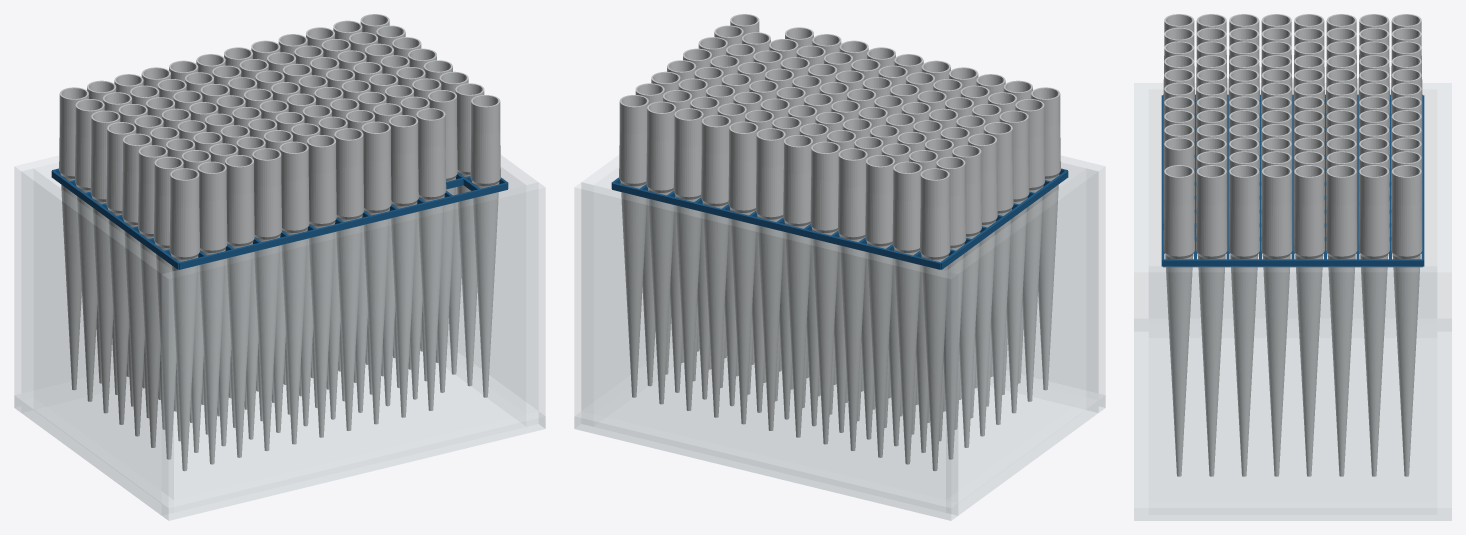
Rendered from tip_box_01.glb.
The picture shows the model from 3 angles, left to right: view 1: azimuth 30°, elevation 25°; view 2: azimuth 150°, elevation 25°; view 3: azimuth 270°, elevation 25°; orthographic projection. The views are drawn at different scales.
Visible parts, largest first — view 1: World_SmallSkills_tip_box_01_SideY0, World_SmallSkills_tip_box_01_SideX0, World_SmallSkills_tip_box_01_Base, World_SmallSkills_tip_box_01_SideY1, World_SmallSkills_tip_box_01_SideX1, World_SmallSkills_tip_box_01_S5Tip_0_0_HollowTip, World_SmallSkills_tip_box_01_S5Tip_11_0_HollowTip, World_SmallSkills_tip_box_01_S5Tip_1_0_HollowTip, World_SmallSkills_tip_box_01_S5Tip_4_0_HollowTip, World_SmallSkills_tip_box_01_S5Tip_7_0_HollowTip, World_SmallSkills_tip_box_01_S5Tip_6_0_HollowTip, World_SmallSkills_tip_box_01_S5Tip_2_0_HollowTip (+40 smaller); view 2: World_SmallSkills_tip_box_01_SideY1, World_SmallSkills_tip_box_01_SideX0, World_SmallSkills_tip_box_01_Base, World_SmallSkills_tip_box_01_SideY0, World_SmallSkills_tip_box_01_SideX1, World_SmallSkills_tip_box_01_S5Tip_0_7_HollowTip, World_SmallSkills_tip_box_01_S5Tip_1_7_HollowTip, World_SmallSkills_tip_box_01_S5Tip_4_7_HollowTip, World_SmallSkills_tip_box_01_S5Tip_7_7_HollowTip, World_SmallSkills_tip_box_01_S5Tip_10_7_HollowTip, World_SmallSkills_tip_box_01_S5Tip_6_7_HollowTip, World_SmallSkills_tip_box_01_S5Tip_2_7_HollowTip (+41 smaller); view 3: World_SmallSkills_tip_box_01_SideX1, World_SmallSkills_tip_box_01_Base, World_SmallSkills_tip_box_01_SideX0, World_SmallSkills_tip_box_01_SideY1, World_SmallSkills_tip_box_01_SideY0, World_SmallSkills_tip_box_01_S5Tip_11_1_HollowTip, World_SmallSkills_tip_box_01_S5Tip_11_6_HollowTip, World_SmallSkills_tip_box_01_S5Tip_11_3_HollowTip, World_SmallSkills_tip_box_01_S5Tip_11_4_HollowTip, World_SmallSkills_tip_box_01_S5Tip_11_0_HollowTip, World_SmallSkills_tip_box_01_S5Tip_11_7_HollowTip, World_SmallSkills_tip_box_01_S5Tip_11_2_HollowTip (+91 smaller).
Boxes of the visible parts, bbox=[...] form: World_SmallSkills_tip_box_01_SideY0: bbox=[162, 182, 545, 520]; World_SmallSkills_tip_box_01_SideX0: bbox=[21, 169, 173, 514]; World_SmallSkills_tip_box_01_Base: bbox=[14, 351, 545, 520]; World_SmallSkills_tip_box_01_SideY1: bbox=[14, 156, 113, 411]; World_SmallSkills_tip_box_01_SideX1: bbox=[448, 155, 538, 409]; World_SmallSkills_tip_box_01_S5Tip_0_0_HollowTip: bbox=[169, 168, 199, 471]; World_SmallSkills_tip_box_01_S5Tip_11_0_HollowTip: bbox=[470, 95, 500, 397]; World_SmallSkills_tip_box_01_S5Tip_1_0_HollowTip: bbox=[197, 161, 227, 464]; World_SmallSkills_tip_box_01_S5Tip_4_0_HollowTip: bbox=[279, 141, 309, 444]; World_SmallSkills_tip_box_01_S5Tip_7_0_HollowTip: bbox=[361, 121, 391, 424]; World_SmallSkills_tip_box_01_S5Tip_6_0_HollowTip: bbox=[334, 128, 364, 430]; World_SmallSkills_tip_box_01_S5Tip_2_0_HollowTip: bbox=[225, 155, 254, 457]; World_SmallSkills_tip_box_01_SideY1: bbox=[574, 182, 957, 520]; World_SmallSkills_tip_box_01_SideX0: bbox=[946, 169, 1098, 514]; World_SmallSkills_tip_box_01_Base: bbox=[574, 351, 1105, 520]; World_SmallSkills_tip_box_01_SideY0: bbox=[1006, 156, 1105, 411]; World_SmallSkills_tip_box_01_SideX1: bbox=[581, 155, 671, 409]; World_SmallSkills_tip_box_01_S5Tip_0_7_HollowTip: bbox=[920, 168, 950, 471]; World_SmallSkills_tip_box_01_S5Tip_1_7_HollowTip: bbox=[892, 161, 922, 464]; World_SmallSkills_tip_box_01_S5Tip_4_7_HollowTip: bbox=[810, 141, 840, 444]; World_SmallSkills_tip_box_01_S5Tip_7_7_HollowTip: bbox=[728, 121, 758, 424]; World_SmallSkills_tip_box_01_S5Tip_10_7_HollowTip: bbox=[646, 101, 676, 404]; World_SmallSkills_tip_box_01_S5Tip_6_7_HollowTip: bbox=[755, 128, 785, 430]; World_SmallSkills_tip_box_01_S5Tip_2_7_HollowTip: bbox=[865, 155, 894, 457]; World_SmallSkills_tip_box_01_SideX1: bbox=[1149, 266, 1436, 520]; World_SmallSkills_tip_box_01_Base: bbox=[1134, 319, 1451, 520]; World_SmallSkills_tip_box_01_SideX0: bbox=[1149, 83, 1436, 318]; World_SmallSkills_tip_box_01_SideY1: bbox=[1437, 83, 1451, 520]; World_SmallSkills_tip_box_01_SideY0: bbox=[1134, 83, 1148, 520]; World_SmallSkills_tip_box_01_S5Tip_11_1_HollowTip: bbox=[1196, 165, 1227, 476]; World_SmallSkills_tip_box_01_S5Tip_11_6_HollowTip: bbox=[1358, 165, 1389, 476]; World_SmallSkills_tip_box_01_S5Tip_11_3_HollowTip: bbox=[1261, 165, 1292, 476]; World_SmallSkills_tip_box_01_S5Tip_11_4_HollowTip: bbox=[1293, 165, 1324, 476]; World_SmallSkills_tip_box_01_S5Tip_11_0_HollowTip: bbox=[1163, 165, 1194, 476]; World_SmallSkills_tip_box_01_S5Tip_11_7_HollowTip: bbox=[1391, 165, 1422, 476]; World_SmallSkills_tip_box_01_S5Tip_11_2_HollowTip: bbox=[1228, 165, 1259, 476].
Size of the model in its own units: 0.124 by 0.101 by 0.088.
